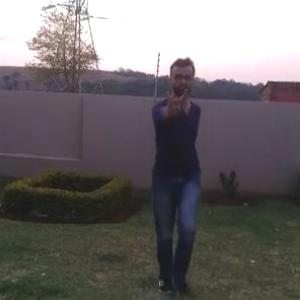takeoff-hand: (159, 82, 189, 118)
